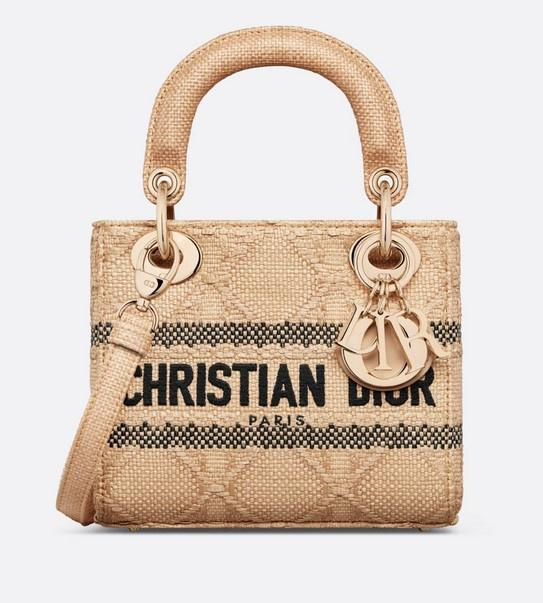DIOR: (111, 339, 454, 425)
